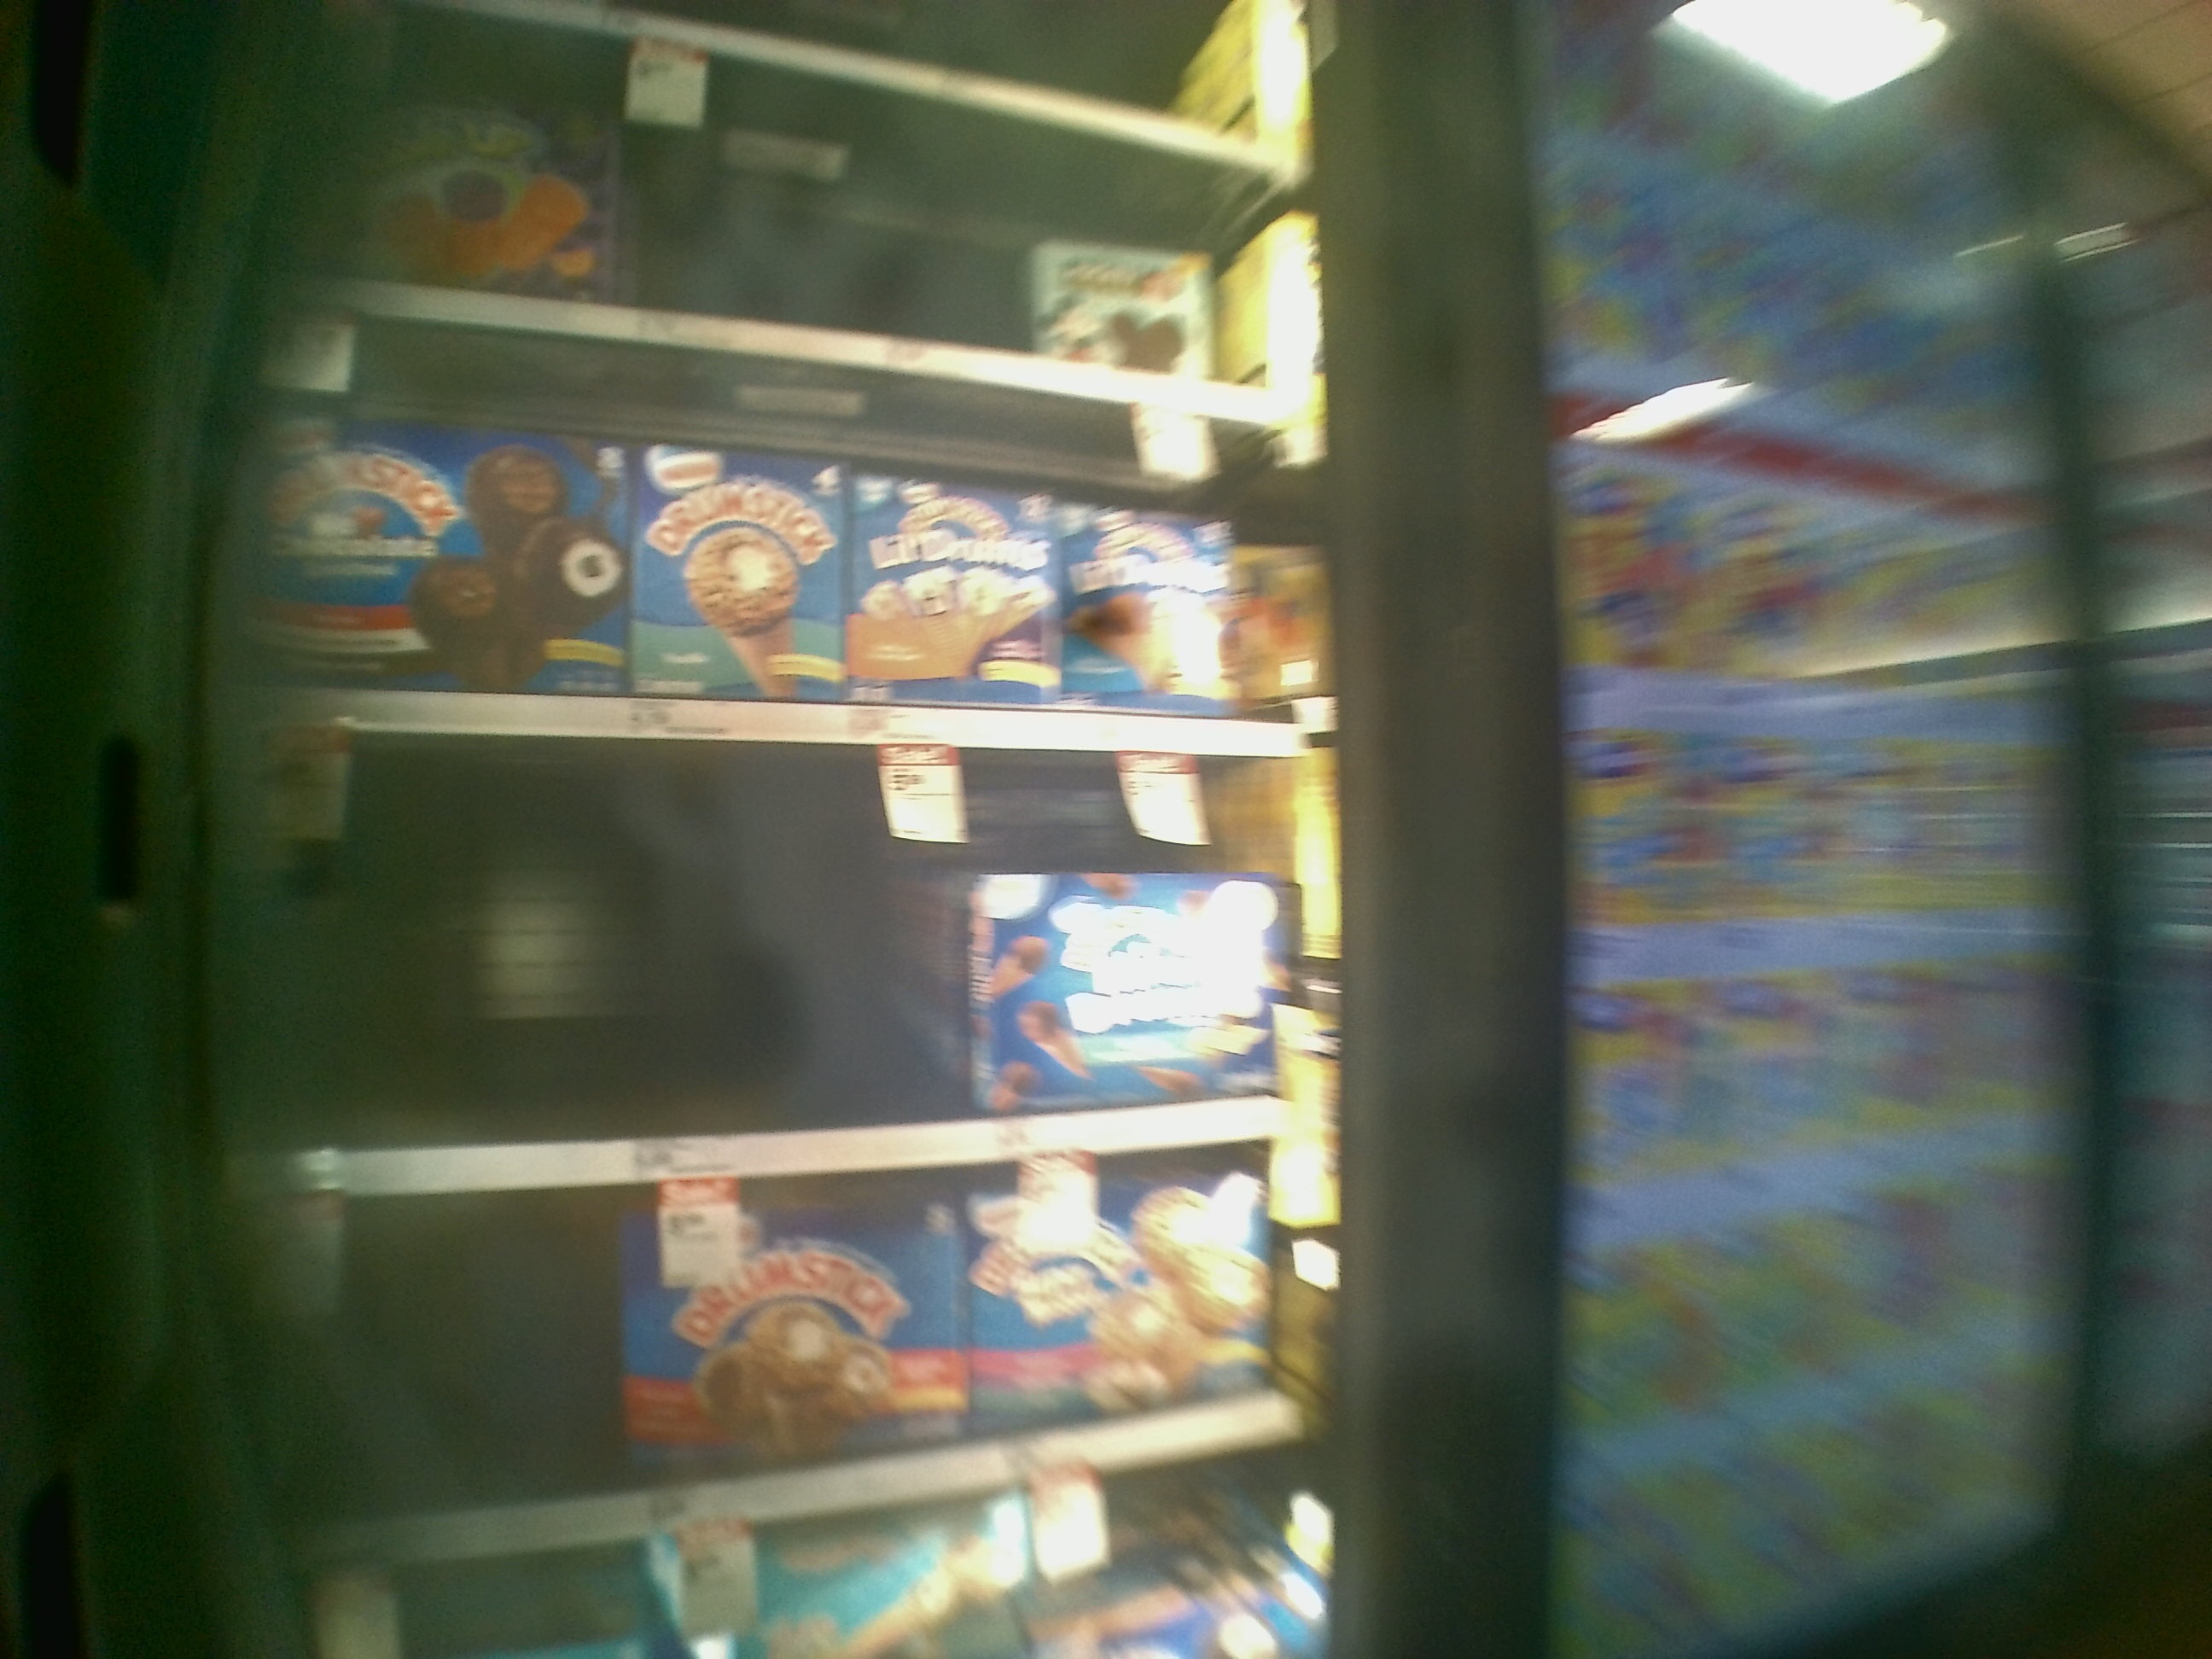shelf: (254, 734, 1353, 1190), (244, 305, 1331, 753), (263, 1138, 1345, 1556)
